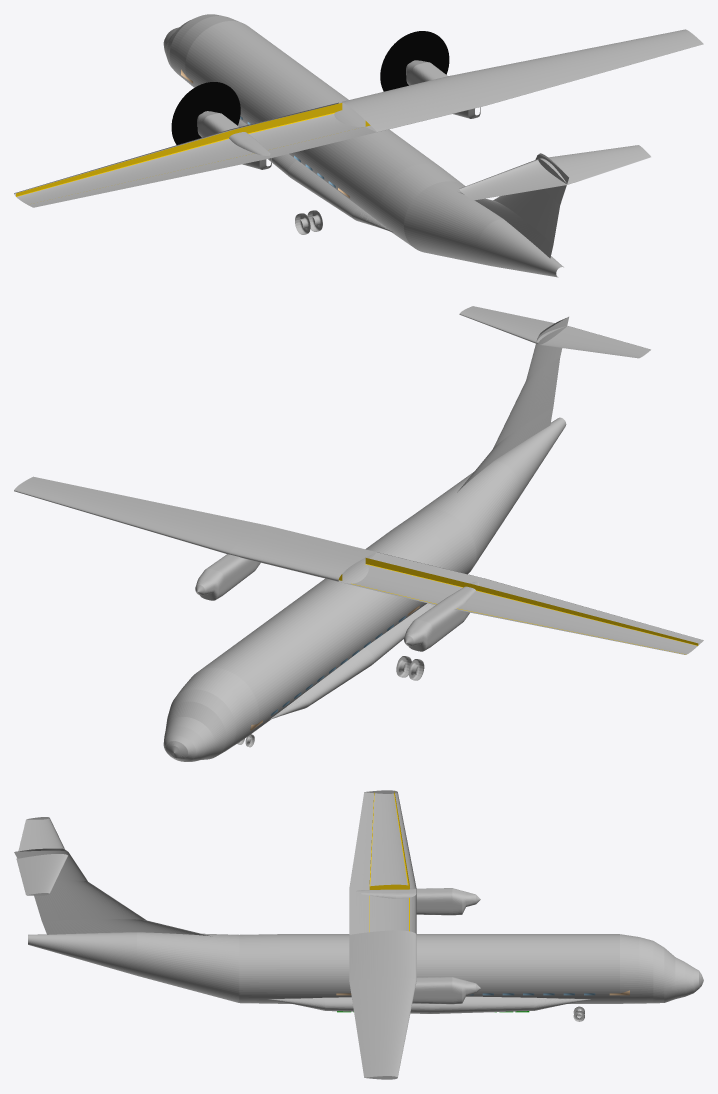
Rendered from ATR_72_parallel_hybrid_electric.gltf.
3 views of the same model, one above another, from view 1: azimuth 30°, elevation 25°; view 2: azimuth 150°, elevation 25°; view 3: azimuth 270°, elevation 25° (orthographic). The views are drawn at different scales.
Parts seen in each view (by area): view 1: Renderer Node; view 2: Renderer Node; view 3: Renderer Node.
Boxes of the visible parts, x1,y1,x2,y2 form: Renderer Node: (14,14,703,277); Renderer Node: (14,306,703,761); Renderer Node: (14,790,703,1079).
Bounding box in the file's own units: 27.12 × 7.68 × 27.68.
